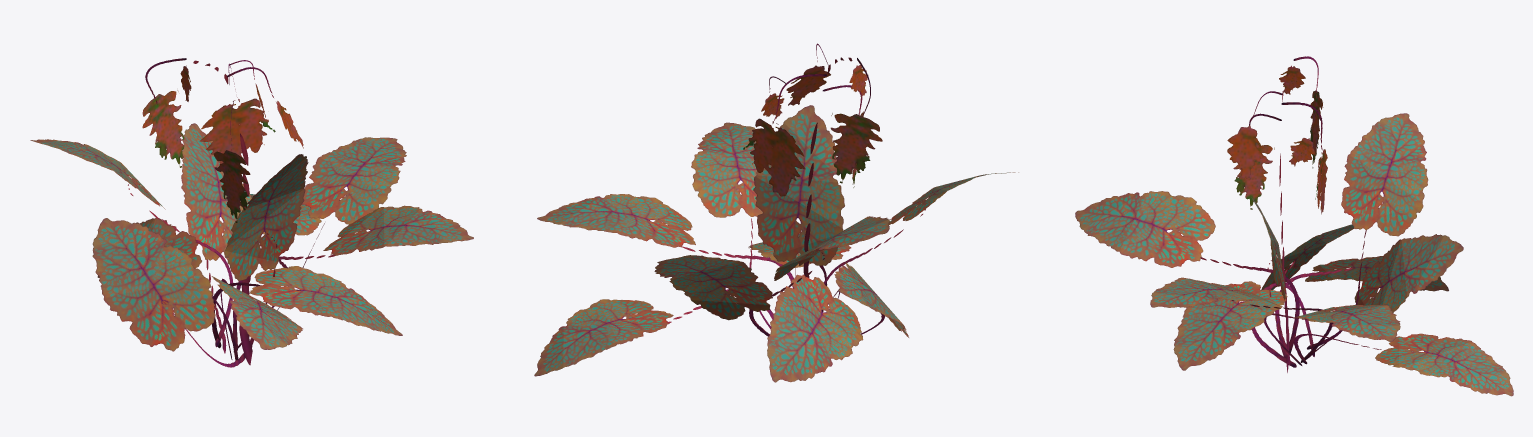
Rendered from Spin Reef B7.fbx.
3 renders of one model, left to right at view 1: azimuth 30°, elevation 25°; view 2: azimuth 150°, elevation 25°; view 3: azimuth 270°, elevation 25°, orthographic. The views are drawn at different scales.
Visible parts, largest first — view 1: Spin Reef B7; view 2: Spin Reef B7; view 3: Spin Reef B7.
Part boxes in pixels (x1,y1,x2,y2): Spin Reef B7: [30, 58, 473, 367]; Spin Reef B7: [534, 43, 1018, 382]; Spin Reef B7: [1075, 56, 1513, 396].
Size of the model in its own units: 194 by 206 by 220.
